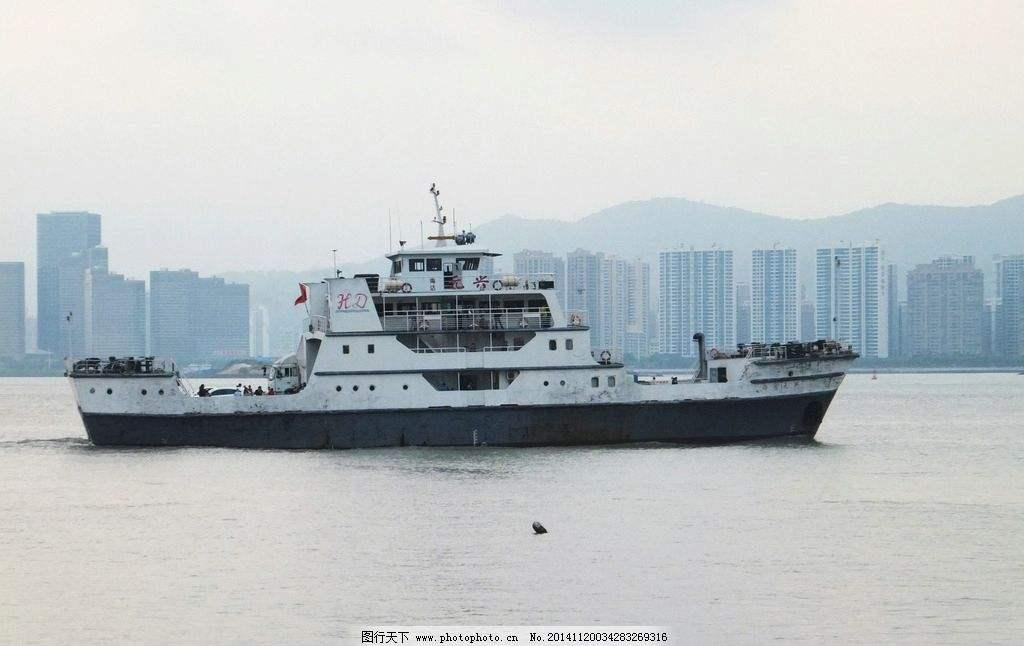otherboat: (60, 156, 854, 448)
